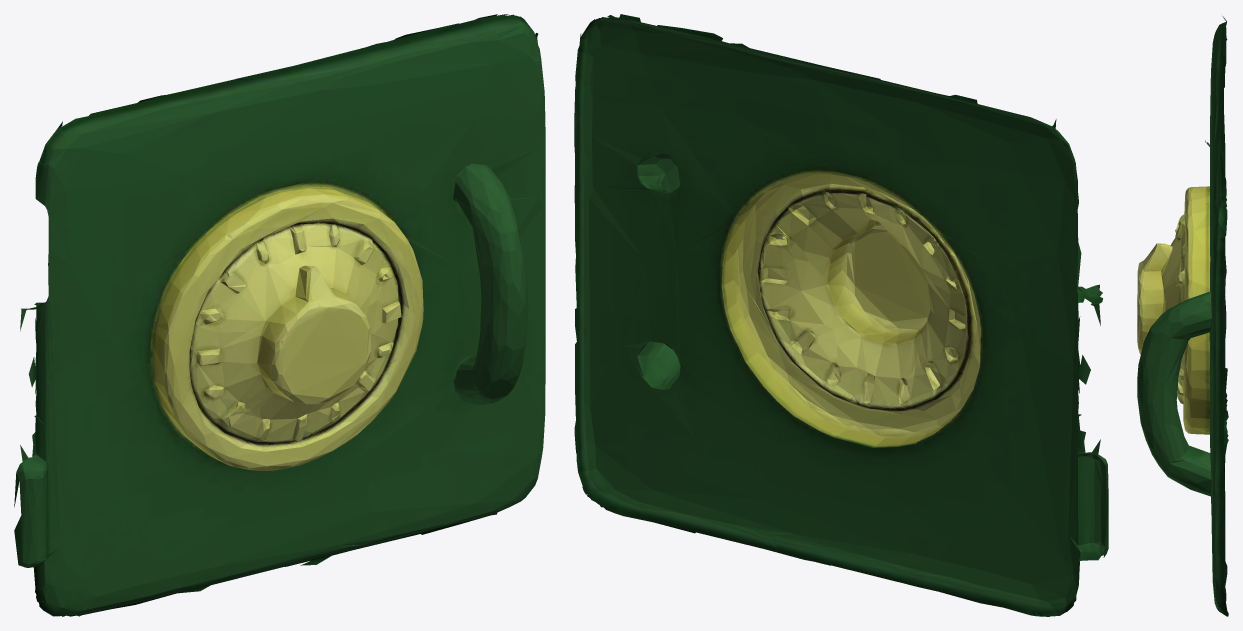
File: door.glb
The picture shows the model from 3 angles, left to right: view 1: azimuth 30°, elevation 25°; view 2: azimuth 150°, elevation 25°; view 3: azimuth 270°, elevation 25°; orthographic projection. The views are drawn at different scales.
Visible parts, largest first — view 1: geometry_0; view 2: geometry_0; view 3: geometry_0.
Part boxes in pixels (x1,y1,x2,y2): geometry_0: (14, 14, 545, 616); geometry_0: (574, 14, 1108, 616); geometry_0: (1137, 16, 1228, 616).
Size of the model in its own units: 0.2542 by 0.2314 by 0.0452.
Materials: 1 (1 with a texture image).
